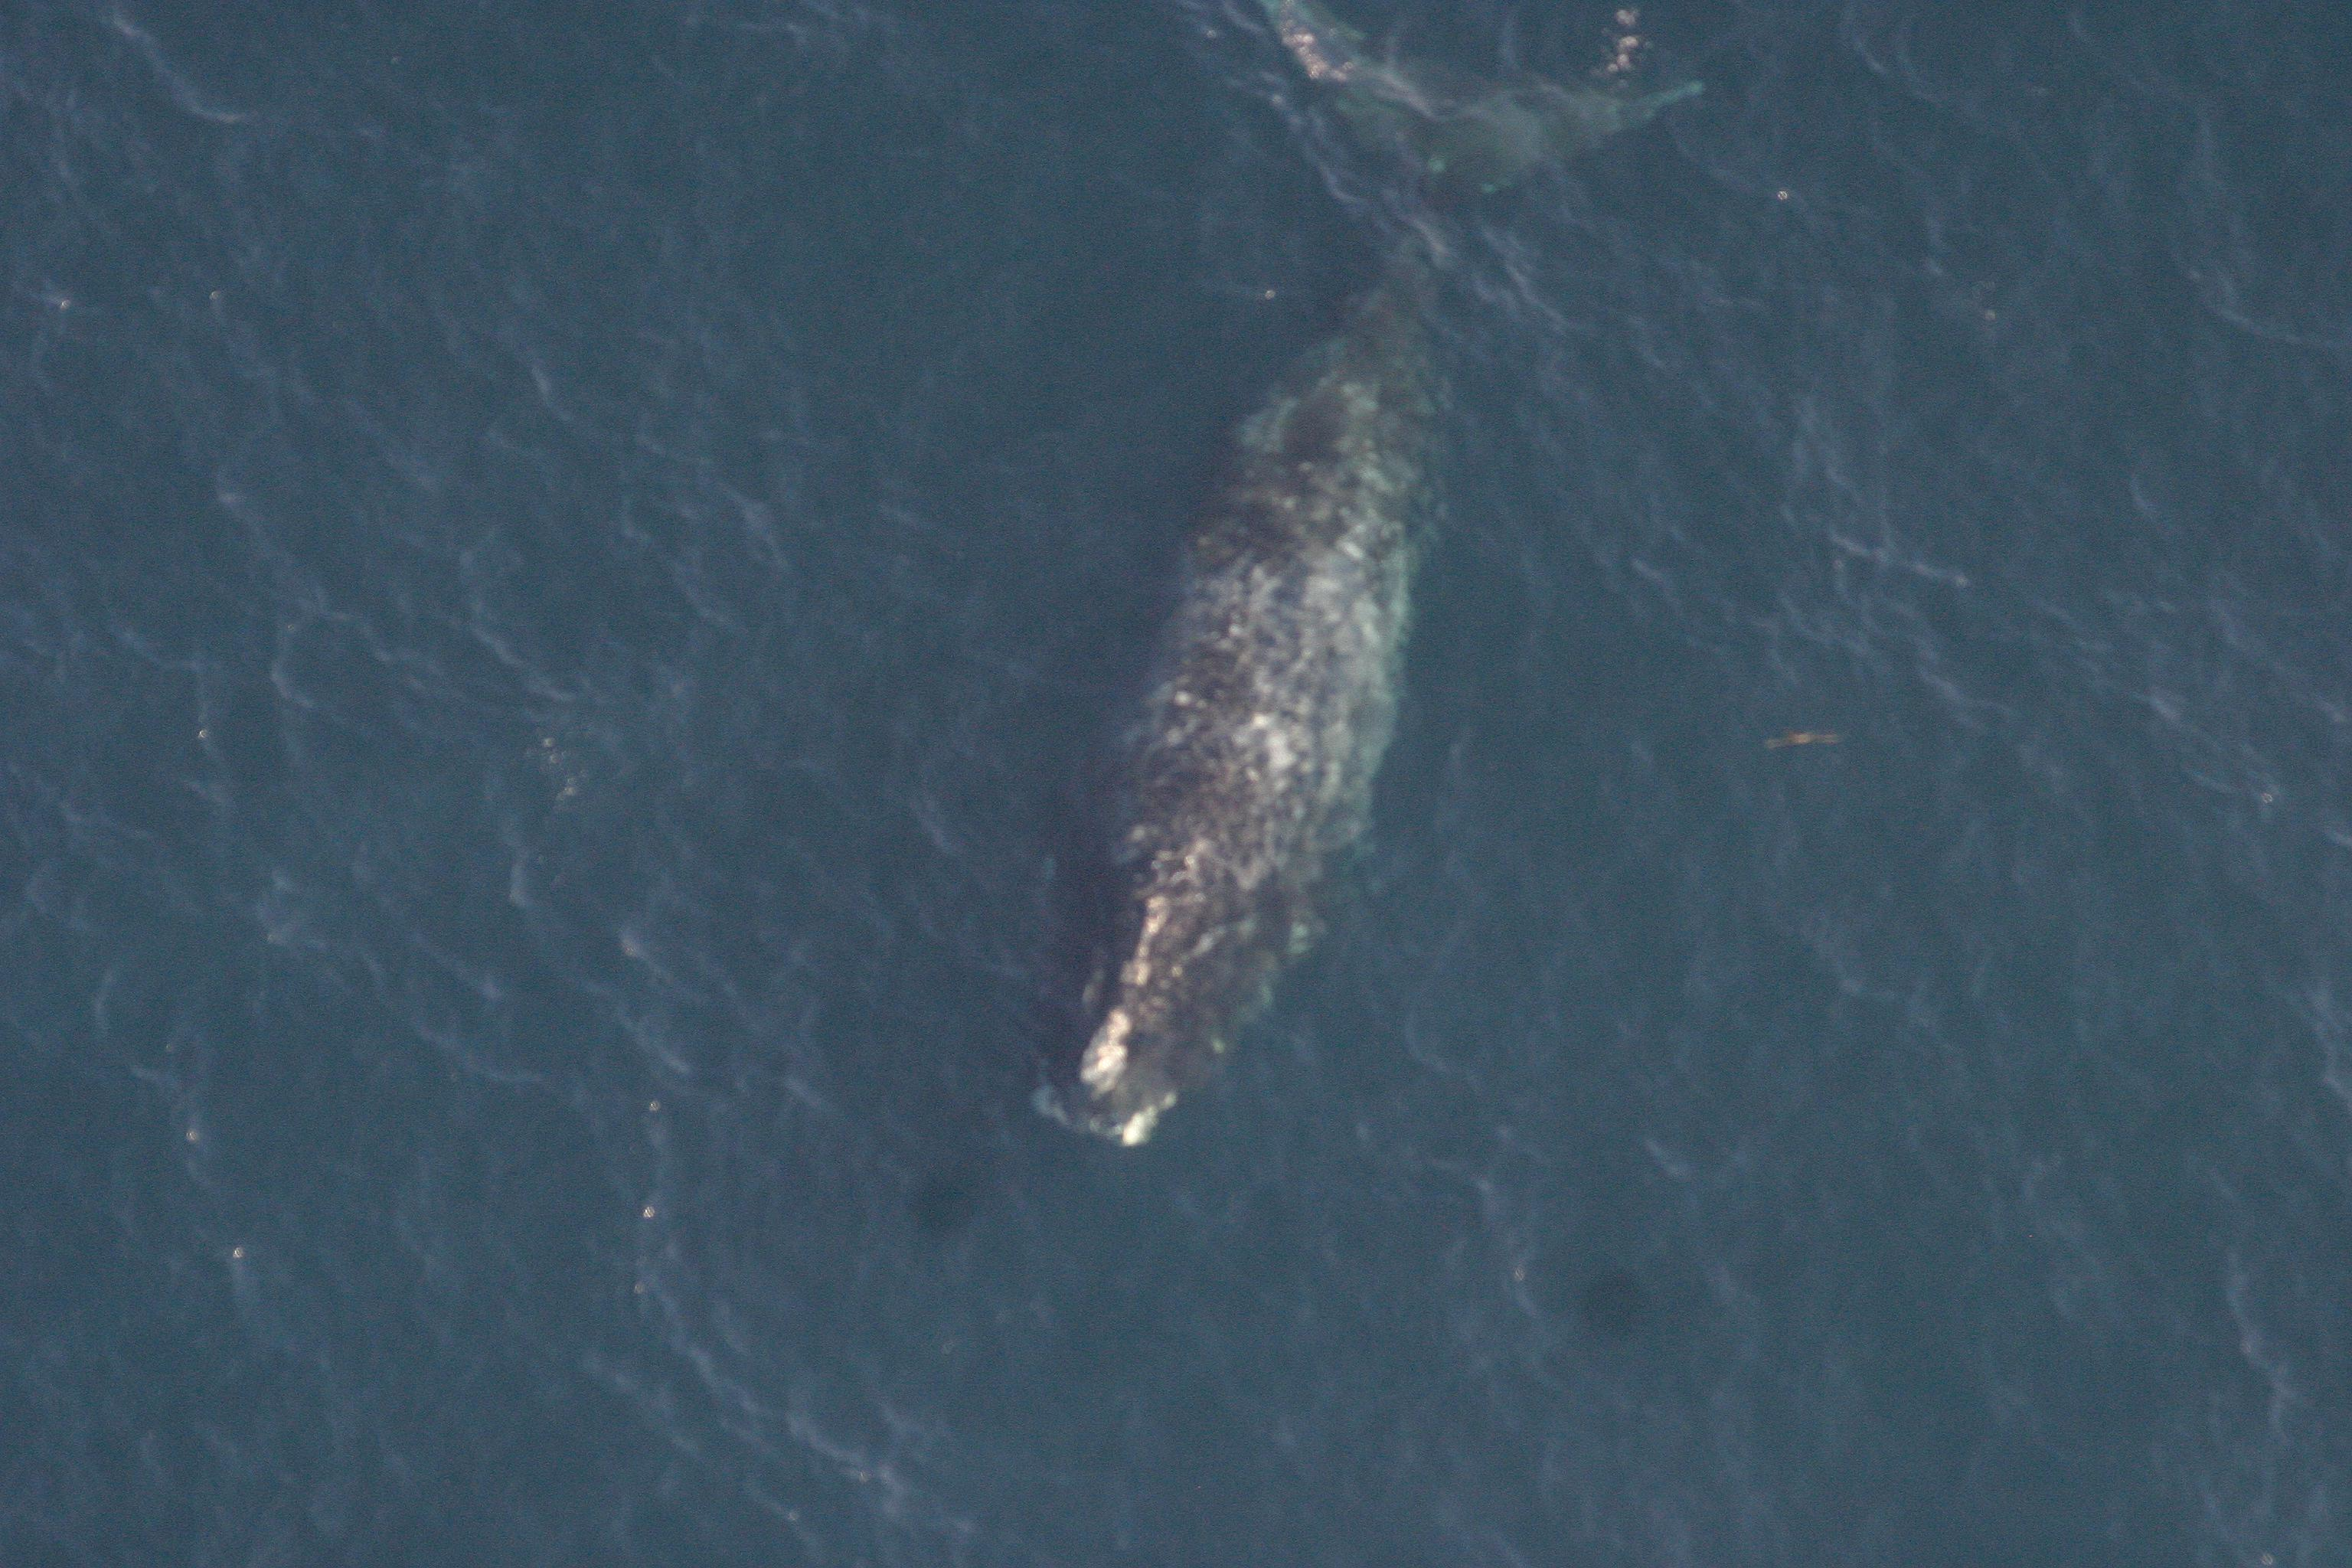whale: (1024, 7, 1710, 1143)
